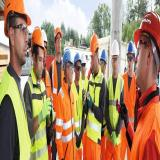Helmet: (134, 12, 160, 58), (4, 1, 32, 38), (30, 27, 46, 57), (89, 31, 100, 56), (62, 48, 73, 69), (111, 40, 120, 60), (127, 40, 135, 61), (54, 27, 62, 46), (100, 46, 107, 66), (74, 51, 82, 67), (81, 49, 87, 67)
Vest: (3, 67, 31, 160), (27, 68, 49, 160), (86, 67, 104, 146), (107, 75, 123, 146), (71, 79, 84, 151), (122, 72, 135, 138), (51, 58, 64, 124)
